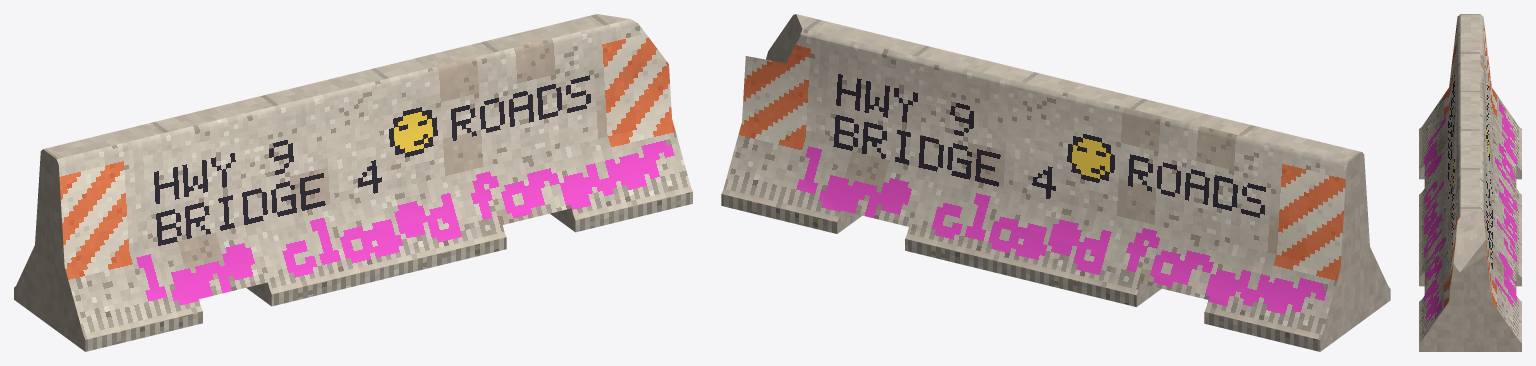
The model's file is s_jersey.glb.
3 renders of one model, left to right at view 1: azimuth 30°, elevation 25°; view 2: azimuth 150°, elevation 25°; view 3: azimuth 270°, elevation 25°, orthographic. The views are drawn at different scales.
Parts seen in each view (by area): view 1: s_jersey_mesh; view 2: s_jersey_mesh; view 3: s_jersey_mesh.
Part boxes in pixels (x1=…): s_jersey_mesh: x1=14, y1=14, x2=692, y2=351; s_jersey_mesh: x1=721, y1=14, x2=1390, y2=351; s_jersey_mesh: x1=1419, y1=14, x2=1521, y2=351.
Size of what is drawn, in the model's own units: 3 by 0.81 by 0.61.
1 material, 1 textured.
